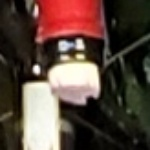bottle: (28, 28, 123, 119)
